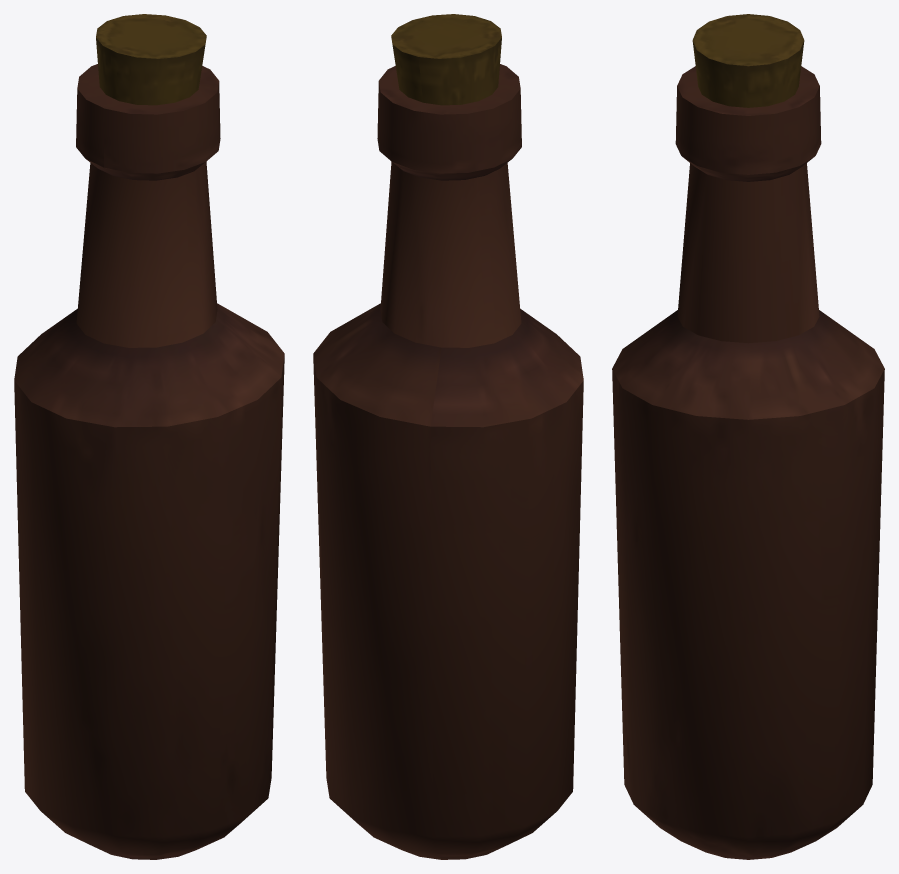
File: bottle_1.glb
The picture shows the model from 3 angles, left to right: view 1: azimuth 30°, elevation 25°; view 2: azimuth 150°, elevation 25°; view 3: azimuth 270°, elevation 25°; orthographic projection.
Visible parts, largest first — view 1: Bottle_1; view 2: Bottle_1; view 3: Bottle_1.
Part boxes in pixels (x1,y1,x2,y2): Bottle_1: [14, 14, 284, 859]; Bottle_1: [313, 14, 583, 859]; Bottle_1: [612, 14, 884, 859].
Size of the model in its own units: 0.1127 by 0.3647 by 0.1129.
1 material, 1 textured.
